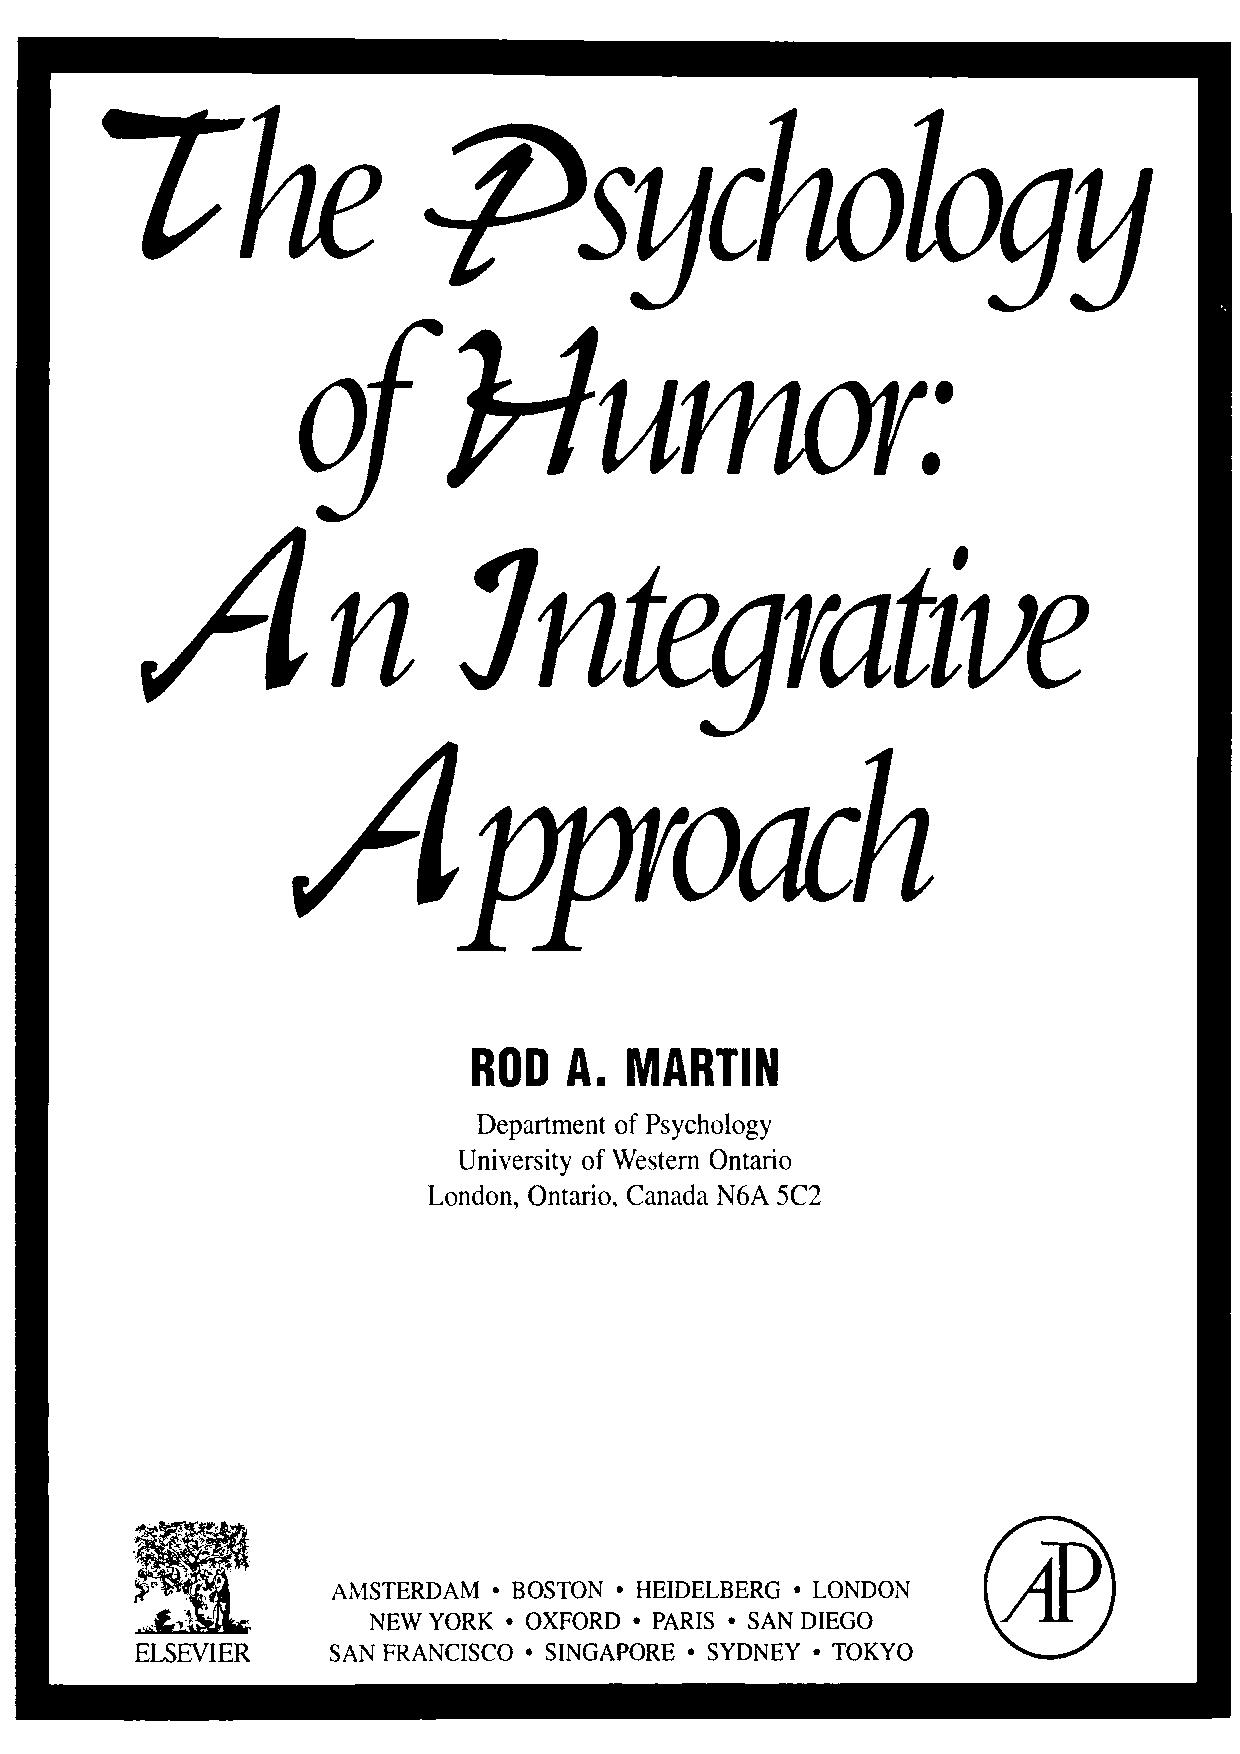author: (466, 1041, 780, 1090)
title: (89, 97, 1159, 960)
